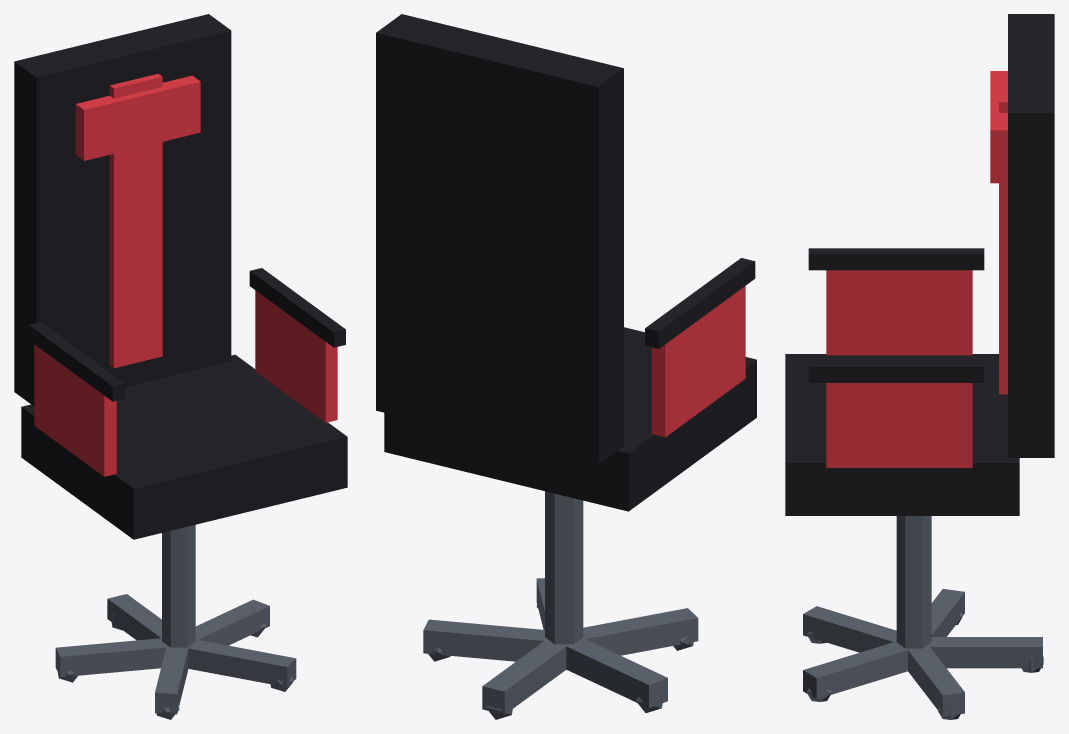
Rendered from gaming_chair.194abe4299ac.glb.
3 renders of one model, left to right at view 1: azimuth 30°, elevation 25°; view 2: azimuth 150°, elevation 25°; view 3: azimuth 270°, elevation 25°, orthographic. The views are drawn at different scales.
Visible parts, largest first — view 1: gaming_chair; view 2: gaming_chair; view 3: gaming_chair.
Boxes of the visible parts, x1,y1,x2,y2 form: gaming_chair: (14,14,347,719); gaming_chair: (376,14,756,719); gaming_chair: (785,14,1054,719).
Bounding box in the file's own units: 0.48 × 1.15 × 0.46.
